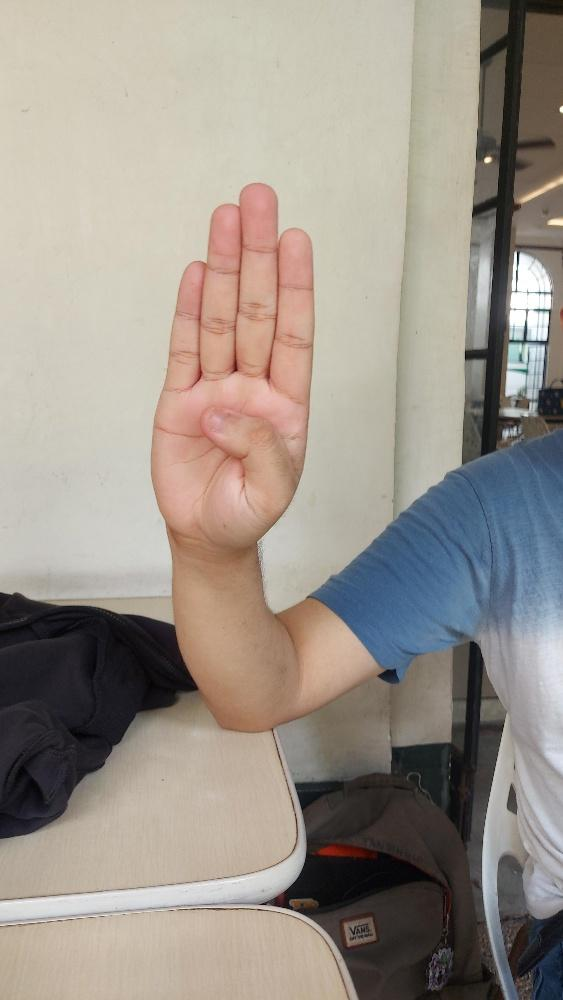b: (149, 181, 314, 548)
